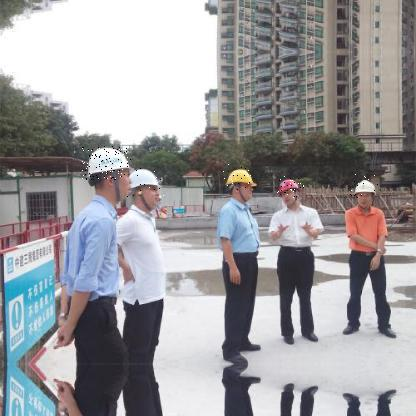safetyhelmet: (82, 146, 132, 181), (125, 168, 165, 198), (222, 164, 257, 191), (350, 174, 379, 200), (276, 176, 305, 199)
